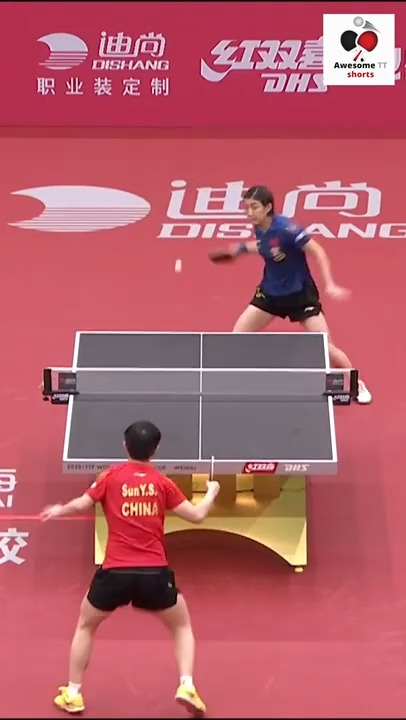Ball: (173, 259, 186, 274)
